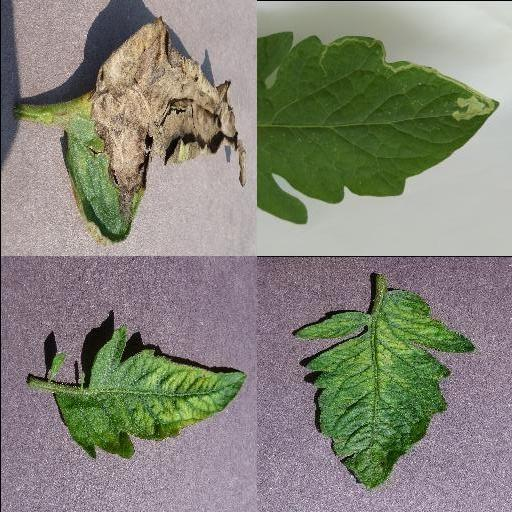Late Blight: (59, 15, 247, 247)
Leaf Miner: (256, 30, 500, 224)
Mosaic Virus: (292, 287, 474, 488), (53, 322, 247, 462)
